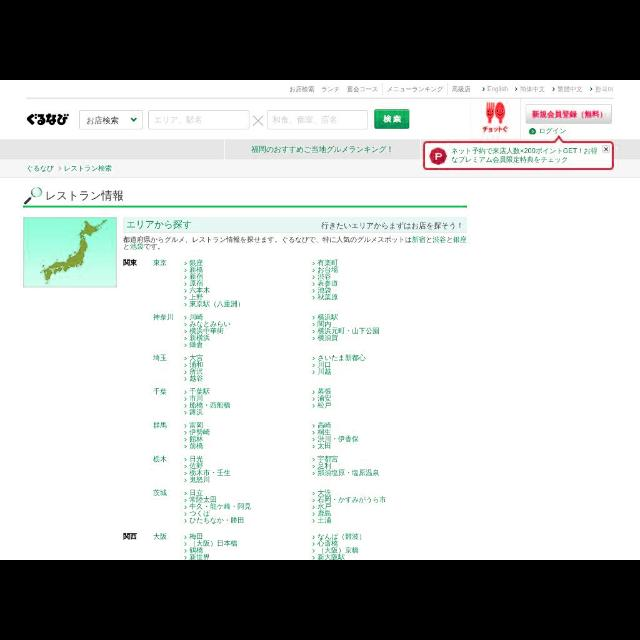button: (602, 146, 610, 154)
icon: (531, 110, 605, 120), (382, 115, 402, 124), (252, 115, 264, 127), (130, 116, 138, 124), (528, 128, 536, 134), (182, 506, 188, 510), (185, 302, 188, 308), (183, 261, 187, 265), (184, 377, 188, 381), (183, 390, 187, 394), (183, 431, 187, 435), (184, 438, 188, 442), (183, 479, 187, 483), (183, 492, 187, 496), (183, 499, 187, 503), (183, 513, 187, 517), (312, 289, 316, 293), (312, 316, 316, 320), (312, 330, 316, 334), (311, 370, 315, 374), (312, 390, 316, 394), (312, 397, 316, 401), (312, 404, 316, 408), (312, 424, 316, 428), (312, 431, 316, 435), (312, 438, 316, 442), (311, 444, 315, 448), (312, 458, 316, 462), (311, 465, 315, 469), (312, 498, 316, 502), (312, 542, 316, 546), (312, 556, 316, 560), (514, 87, 518, 91), (185, 316, 188, 320), (185, 329, 188, 333), (185, 404, 188, 408), (185, 424, 188, 428), (185, 445, 188, 449), (185, 472, 188, 476), (185, 549, 188, 553), (311, 506, 315, 509), (552, 86, 554, 92), (184, 268, 186, 272), (184, 282, 186, 286), (184, 296, 186, 300), (184, 323, 186, 327), (184, 344, 186, 348), (184, 356, 186, 360), (184, 363, 186, 367), (184, 370, 186, 374), (184, 411, 186, 415), (184, 457, 186, 461), (184, 535, 186, 539), (184, 542, 186, 546), (184, 556, 186, 560), (312, 261, 314, 265), (312, 268, 314, 272), (312, 282, 314, 286), (312, 296, 314, 300), (312, 324, 316, 326), (312, 337, 314, 341), (312, 357, 314, 361), (312, 364, 316, 366), (312, 471, 314, 475), (312, 492, 314, 496), (312, 512, 314, 516), (312, 550, 316, 552), (590, 88, 592, 92), (482, 87, 484, 91), (184, 276, 186, 278), (184, 290, 186, 292), (184, 338, 186, 340), (184, 398, 186, 400), (184, 466, 186, 468), (184, 520, 186, 522), (313, 276, 315, 278), (312, 520, 314, 522), (312, 536, 314, 538)
image: (23, 216, 117, 288), (484, 101, 506, 123), (24, 186, 44, 204), (429, 147, 447, 165)
input: (148, 110, 250, 130), (266, 110, 370, 128), (80, 110, 144, 128)
panel: (423, 136, 615, 170)
text: (122, 235, 466, 251), (451, 146, 597, 166), (250, 144, 392, 156), (321, 220, 462, 232), (46, 189, 124, 201), (272, 114, 336, 126), (126, 219, 190, 231), (28, 164, 112, 173), (24, 111, 70, 127), (290, 86, 378, 94), (153, 114, 203, 126), (318, 496, 387, 504), (190, 503, 252, 511), (386, 86, 444, 94), (317, 469, 379, 476), (188, 300, 242, 308), (190, 516, 244, 524), (189, 540, 239, 548), (317, 328, 381, 334), (318, 354, 366, 362), (318, 533, 362, 541), (189, 320, 231, 328), (189, 402, 231, 410), (317, 546, 359, 554), (189, 469, 231, 476), (86, 116, 118, 124), (317, 436, 359, 442), (188, 328, 226, 334), (152, 312, 174, 322), (482, 126, 508, 134), (520, 86, 546, 94), (540, 127, 566, 135), (189, 334, 213, 342), (188, 428, 212, 436), (558, 86, 582, 94), (189, 496, 219, 502), (190, 286, 212, 294), (190, 476, 212, 484), (316, 266, 338, 274), (317, 293, 339, 301), (317, 454, 339, 462), (487, 85, 509, 93), (153, 386, 170, 396), (152, 487, 168, 497), (317, 258, 337, 266), (594, 86, 614, 94), (152, 419, 168, 428), (153, 532, 167, 542), (316, 336, 339, 342), (190, 272, 207, 280), (189, 388, 211, 394), (189, 511, 211, 517), (152, 354, 168, 362), (122, 532, 138, 540), (122, 259, 138, 267), (188, 442, 204, 450), (190, 454, 206, 462), (316, 320, 332, 328), (317, 280, 338, 286), (317, 314, 338, 320), (317, 541, 338, 547), (452, 86, 472, 92), (153, 259, 167, 267), (190, 312, 204, 320), (190, 354, 204, 362), (190, 375, 204, 383), (190, 394, 204, 402), (190, 462, 204, 470), (190, 488, 204, 496), (189, 532, 203, 540), (317, 387, 331, 395), (318, 394, 332, 402), (318, 401, 332, 409), (317, 461, 331, 469), (317, 502, 331, 510), (316, 509, 332, 516), (318, 554, 344, 558), (190, 409, 204, 416), (152, 456, 168, 462), (188, 342, 204, 348), (189, 361, 205, 367), (189, 422, 205, 428), (188, 436, 204, 442), (188, 548, 204, 554), (317, 287, 333, 293), (316, 443, 332, 449), (190, 260, 204, 266), (190, 267, 204, 273), (190, 280, 204, 286), (190, 294, 204, 300), (190, 368, 204, 374), (317, 273, 331, 279), (318, 368, 332, 374), (317, 422, 331, 428), (318, 429, 332, 435), (318, 489, 332, 495), (318, 518, 332, 524), (189, 554, 209, 558), (318, 362, 330, 368)
textbutton: (526, 104, 612, 124), (374, 109, 410, 129)
toolbar: (1, 81, 640, 139)
